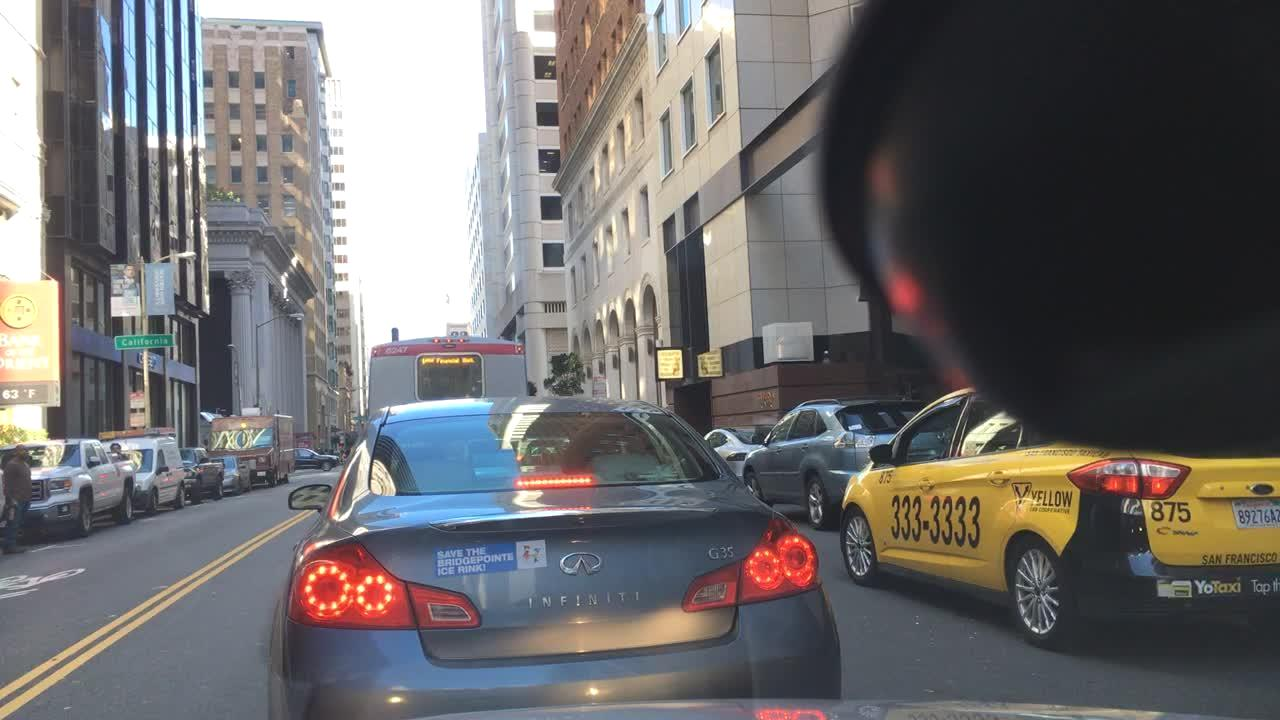Infiniti: (538, 531, 636, 589)
